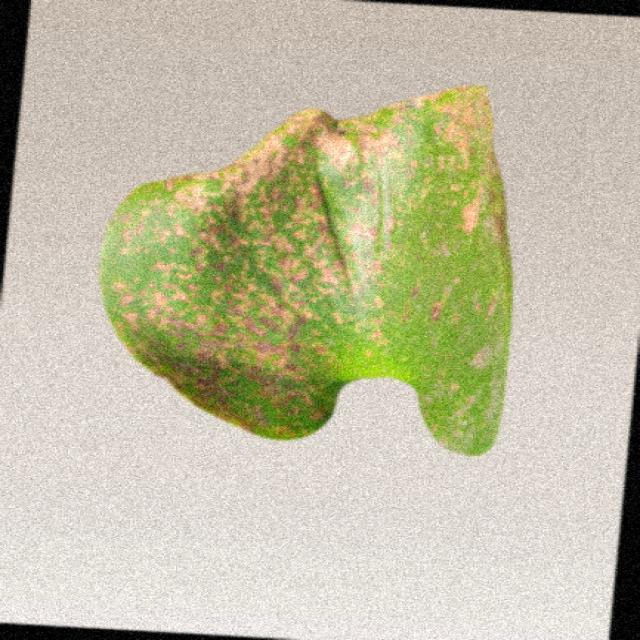daun berpenyakit bercak: (102, 87, 512, 455)
